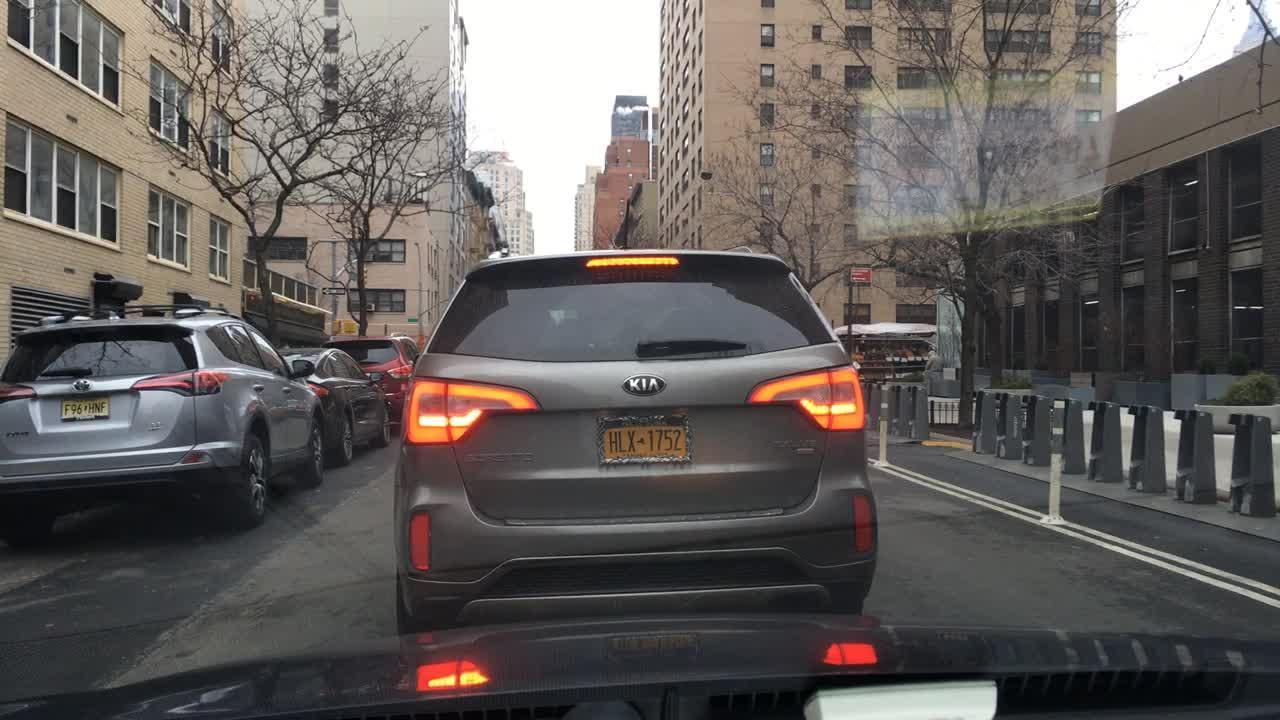Toyota: (69, 375, 98, 394)
kia: (615, 367, 679, 410)
